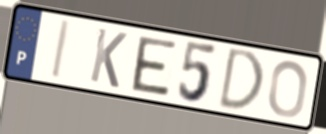5: (177, 41, 221, 106)
D: (216, 45, 266, 112)
E: (130, 34, 179, 99)
I: (49, 18, 73, 82)
K: (87, 26, 129, 91)
O: (266, 58, 310, 120)
